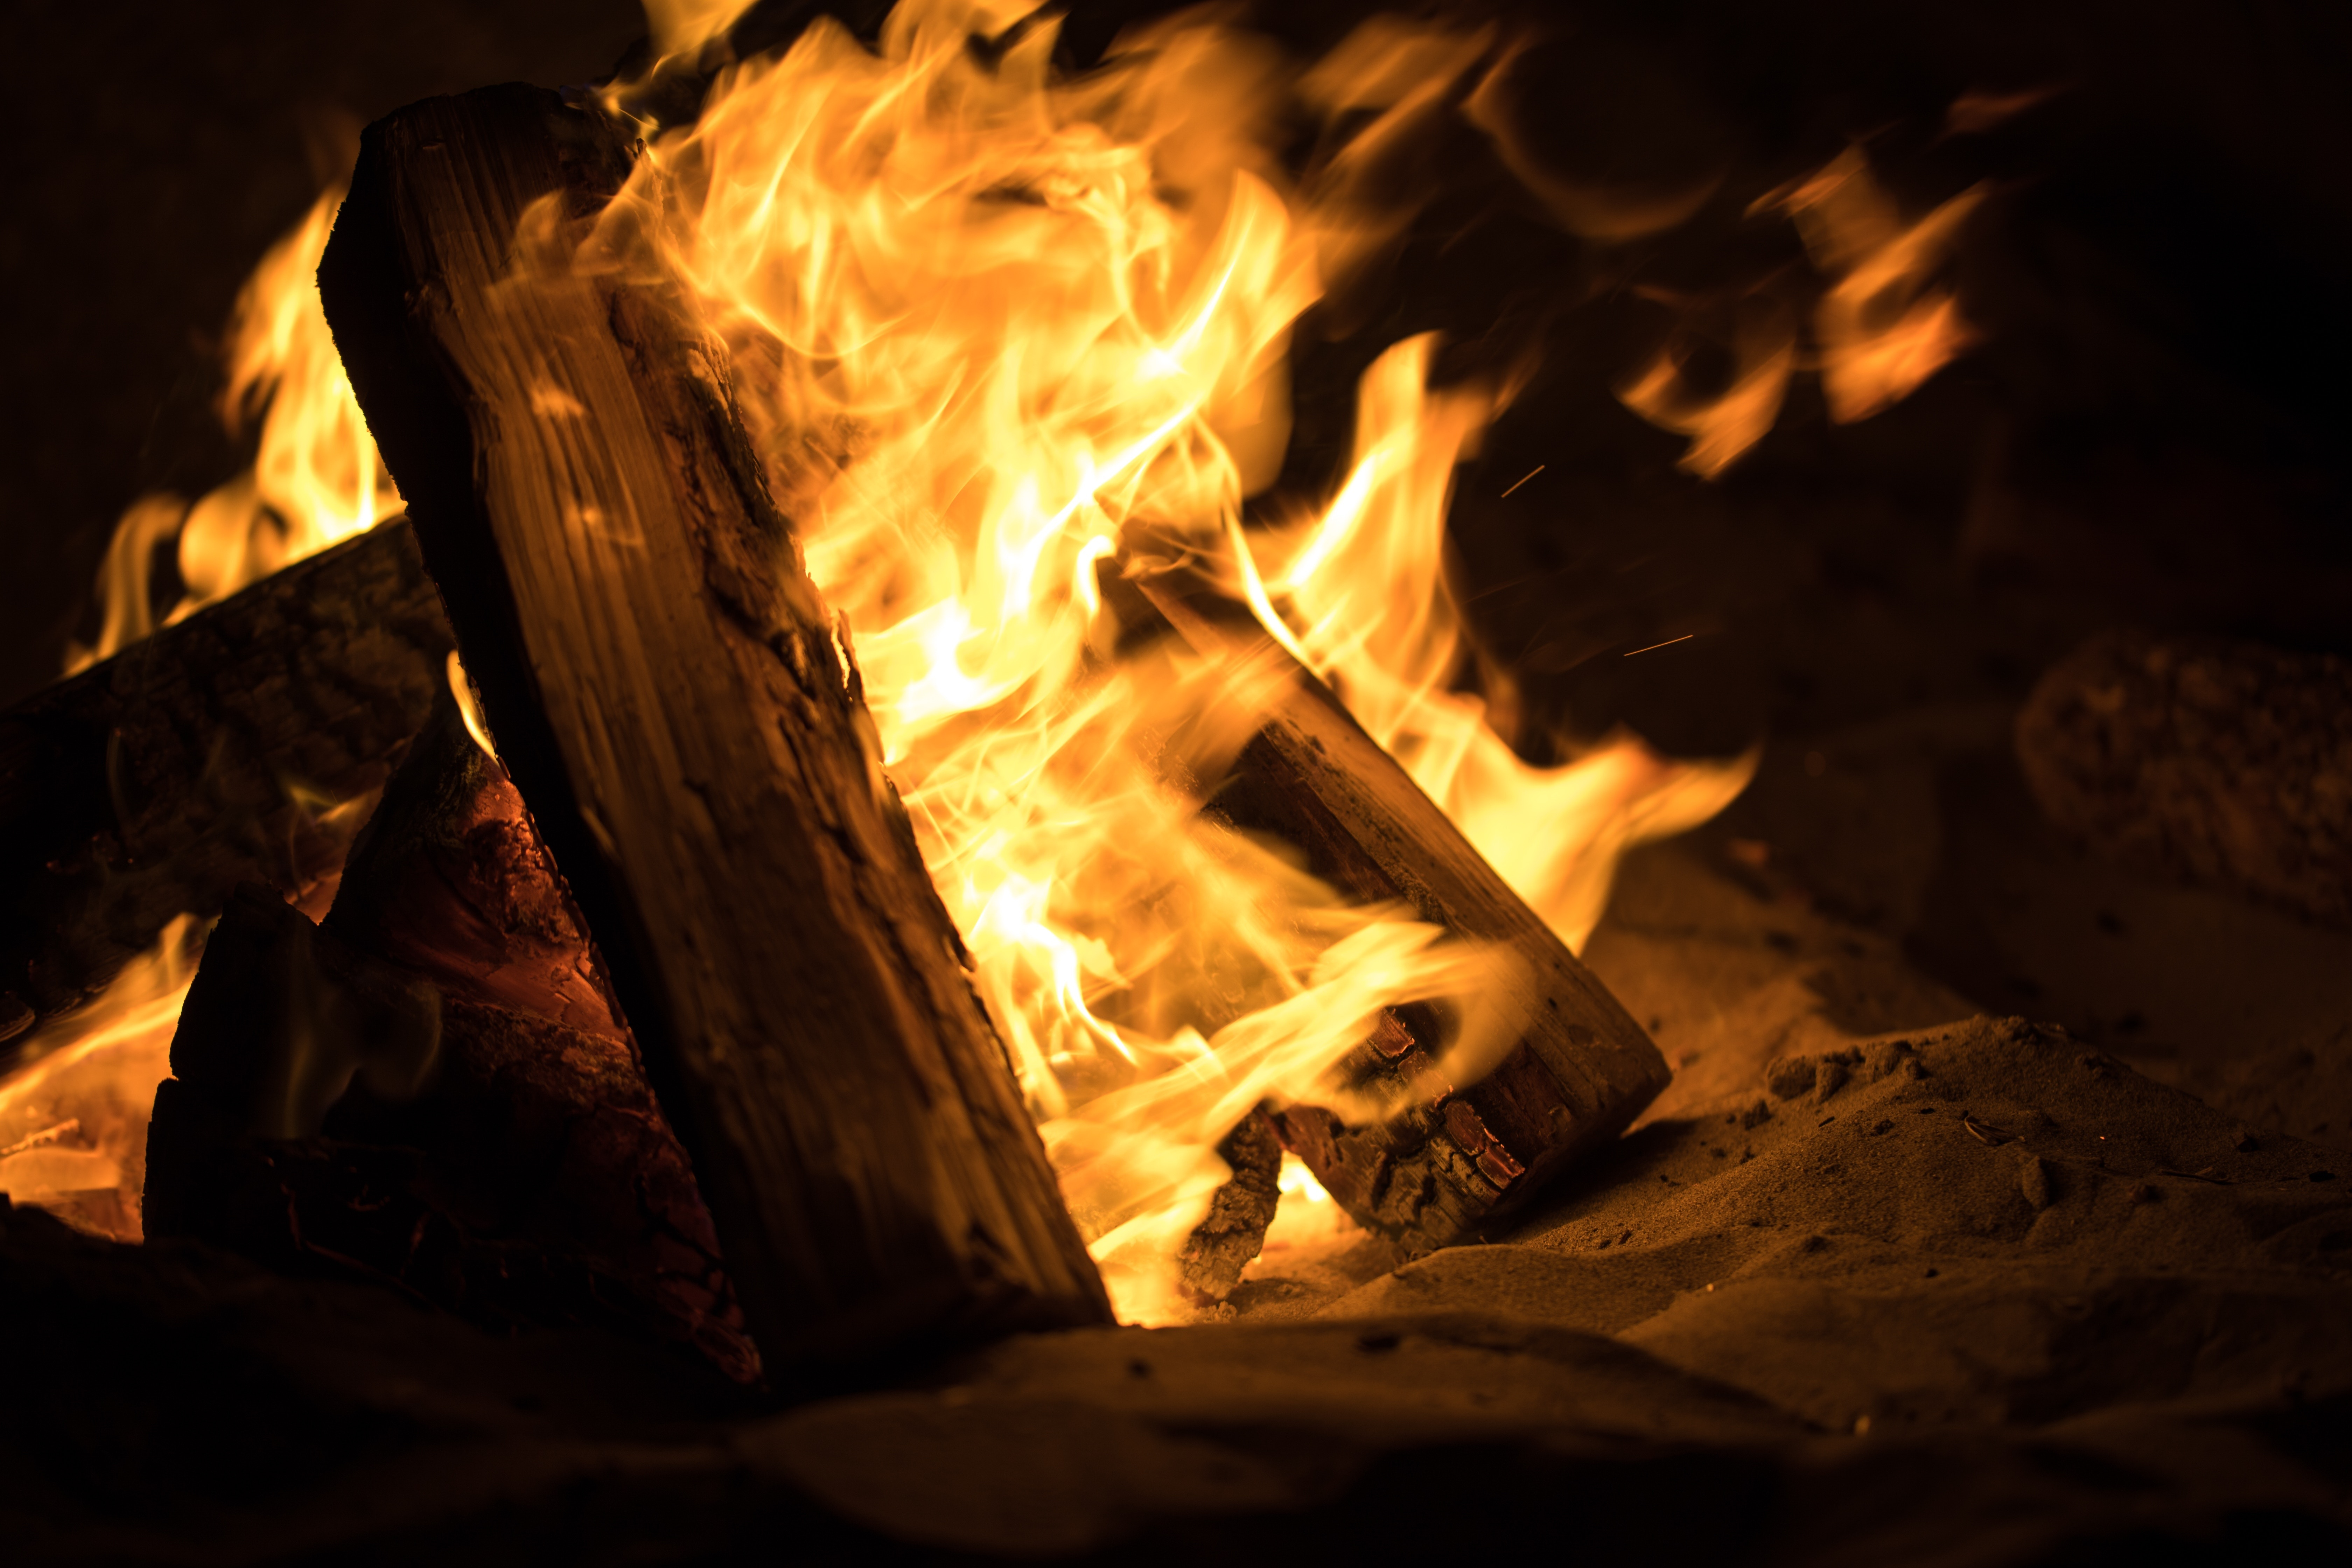fire: (392, 75, 1780, 1342)
